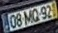0: (8, 13, 16, 28)
2: (46, 4, 53, 18)
8: (15, 12, 22, 27)
9: (40, 5, 47, 19)
M: (23, 8, 33, 26)
Q: (31, 7, 40, 22)
